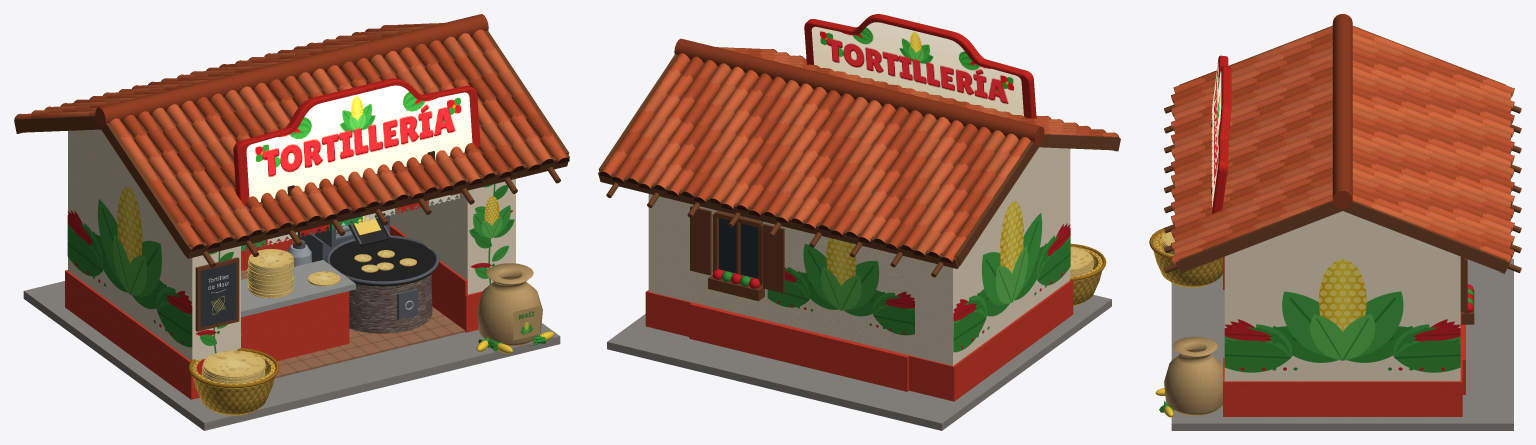
The model's file is tortilleria.glb.
3 renders of one model, left to right at view 1: azimuth 30°, elevation 25°; view 2: azimuth 150°, elevation 25°; view 3: azimuth 270°, elevation 25°, orthographic. The views are drawn at different scales.
Visible parts, largest first — view 1: Tortilleria, techo (×2), letrero, muro (×2), costal, canasta, maquina; view 2: Tortilleria, techo (×2), muro (×2), letrero, canasta; view 3: techo (×2), Tortilleria, muro, costal, letrero, canasta.
Boxes of the visible parts, x1,y1,x2,y2 form: Tortilleria: (23,14,560,430); techo (×2): (14,23,569,267); letrero: (233,78,480,205); muro (×2): (68,129,515,360); costal: (477,263,542,346); canasta: (192,350,275,415); maquina: (297,213,390,262); Tortilleria: (607,38,1111,430); techo (×2): (598,47,1120,277); muro (×2): (648,147,1070,365); letrero: (804,14,1036,118); canasta: (1070,246,1102,306); techo (×2): (1164,25,1521,273); Tortilleria: (1149,14,1513,430); muro: (1224,211,1460,381); costal: (1164,336,1223,415); letrero: (1211,55,1231,213); canasta: (1153,230,1222,287).
Bounding box in the file's own units: 7.1 × 4.92 × 6.31.
58 materials, 26 textured.
